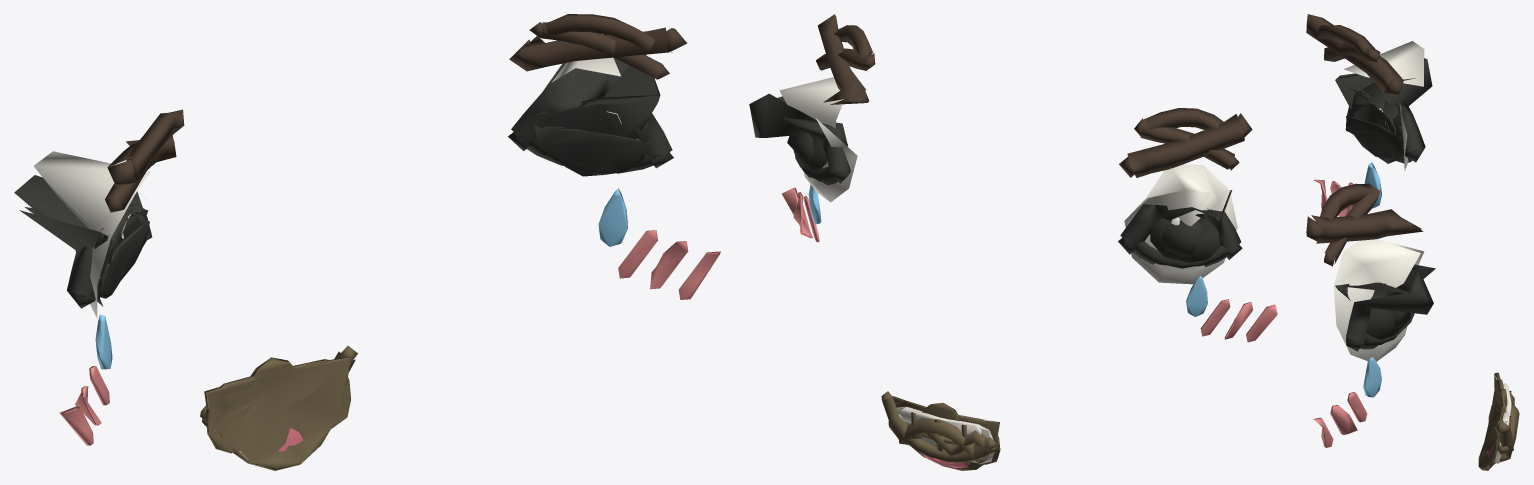
The model's file is npc_face_hangyeol.glb.
3 renders of one model, left to right at view 1: azimuth 30°, elevation 25°; view 2: azimuth 150°, elevation 25°; view 3: azimuth 270°, elevation 25°, orthographic. The views are drawn at different scales.
Parts seen in each view (by area): view 1: eyes_x_angry, eyes_x_shy, eyes_x_surprised, eyes_x_happy, mouth_x_laugh, eyes_x_sad, mouth_x_grit, mouth_x_o; view 2: eyes_x_surprised, eyes_x_happy, eyes_x_angry, eyes_x_sad, eyes_x_shy, mouth_x_grin, eyes_x_blink, mouth_x_laugh, mouth_x_grit, mouth_x_frown, mouth_x_wavy; view 3: eyes_x_surprised, eyes_x_angry, eyes_x_happy, eyes_x_sad, eyes_x_shy, mouth_x_laugh, mouth_x_grit, eyes_x_blink, mouth_x_grin, mouth_x_frown.
Boxes of the visible parts, <box> form: eyes_x_angry: <box>19,27,687,263</box>; eyes_x_shy: <box>59,125,720,445</box>; eyes_x_surprised: <box>34,14,654,318</box>; eyes_x_happy: <box>14,34,673,308</box>; mouth_x_laugh: <box>204,357,350,470</box>; eyes_x_sad: <box>76,22,669,369</box>; mouth_x_grit: <box>205,359,350,453</box>; mouth_x_o: <box>246,357,300,431</box>; eyes_x_surprised: <box>779,25,1237,284</box>; eyes_x_happy: <box>749,93,1242,259</box>; eyes_x_angry: <box>777,14,1252,227</box>; eyes_x_sad: <box>794,48,1239,316</box>; eyes_x_shy: <box>782,187,1277,342</box>; mouth_x_grin: <box>881,391,998,462</box>; eyes_x_blink: <box>791,142,1227,268</box>; mouth_x_laugh: <box>892,396,999,470</box>; mouth_x_grit: <box>895,401,1000,464</box>; mouth_x_frown: <box>898,418,988,462</box>; mouth_x_wavy: <box>888,421,997,455</box>; eyes_x_surprised: <box>1317,25,1424,361</box>; eyes_x_angry: <box>1306,14,1423,300</box>; eyes_x_happy: <box>1345,58,1435,351</box>; eyes_x_sad: <box>1324,42,1410,397</box>; eyes_x_shy: <box>1313,115,1401,447</box>; mouth_x_laugh: <box>1478,372,1511,470</box>; mouth_x_grit: <box>1488,379,1513,466</box>; eyes_x_blink: <box>1346,123,1417,349</box>; mouth_x_grin: <box>1494,420,1513,451</box>; mouth_x_frown: <box>1499,400,1519,462</box>.
Bounding box in the file's own units: 0.5052 × 0.3398 × 0.184.
